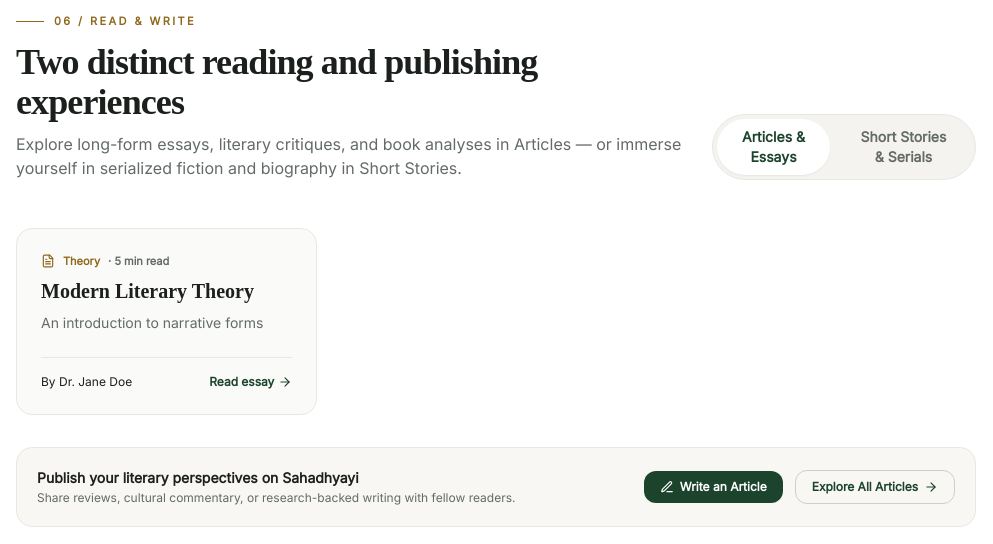
Test: HomeReadAndWriteSection › switches to stories tab and displays story items and publish CTA
Click the button "Short Stories & Serials" at (904, 146), box [836,118,971,174]
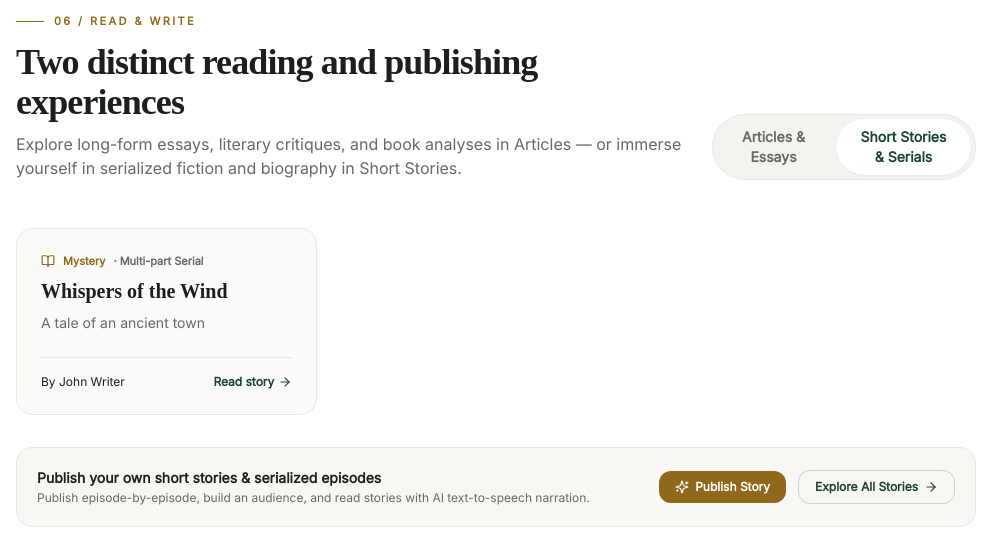
Expected: the link "Whispers of the Wind" is shown, [41,280,228,302]
Expected: the text "By John Writer" is shown, [41,374,125,390]
Expected: the text "· Multi-part Serial" is shown, [113,252,204,269]
